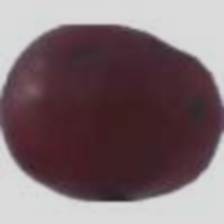grapes: (41, 0, 196, 199)
